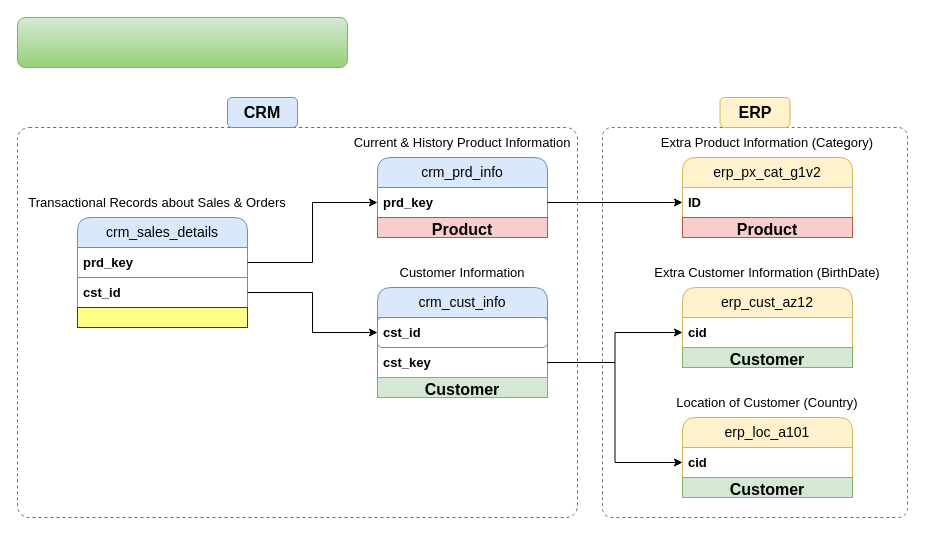
Image size: 925x535. Some labels were removed from this diagram. Each missing label, with the centre of its shape:
Integration Model (How to tables are related): the point at 182,42
Sales: the point at 162,317
